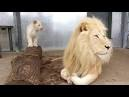lion: (60, 18, 112, 86)
